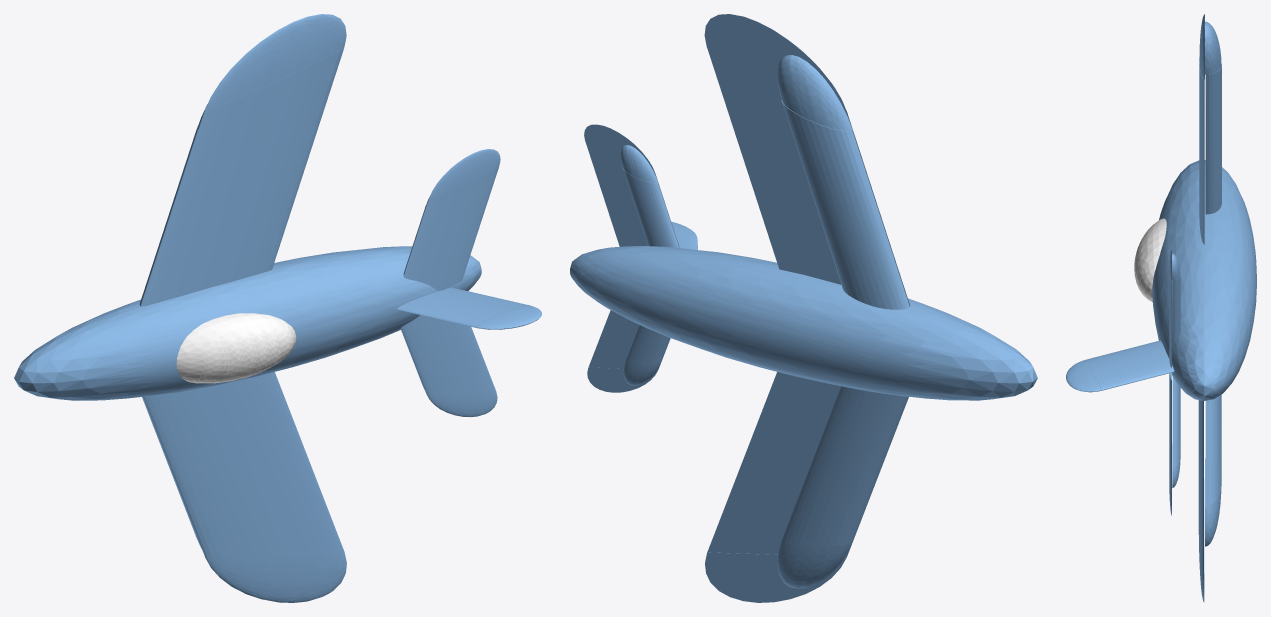
Rendered from avion.dae.
The picture shows the model from 3 angles, left to right: view 1: azimuth 30°, elevation 25°; view 2: azimuth 150°, elevation 25°; view 3: azimuth 270°, elevation 25°; orthographic projection. The views are drawn at different scales.
Visible parts, largest first — view 1: node; view 2: node; view 3: node.
Part boxes in pixels (bbox=[...]): node: bbox=[14, 14, 541, 602]; node: bbox=[570, 14, 1037, 602]; node: bbox=[1066, 14, 1256, 602].
Size of the model in its own units: 45.21 by 54.01 by 16.34.
